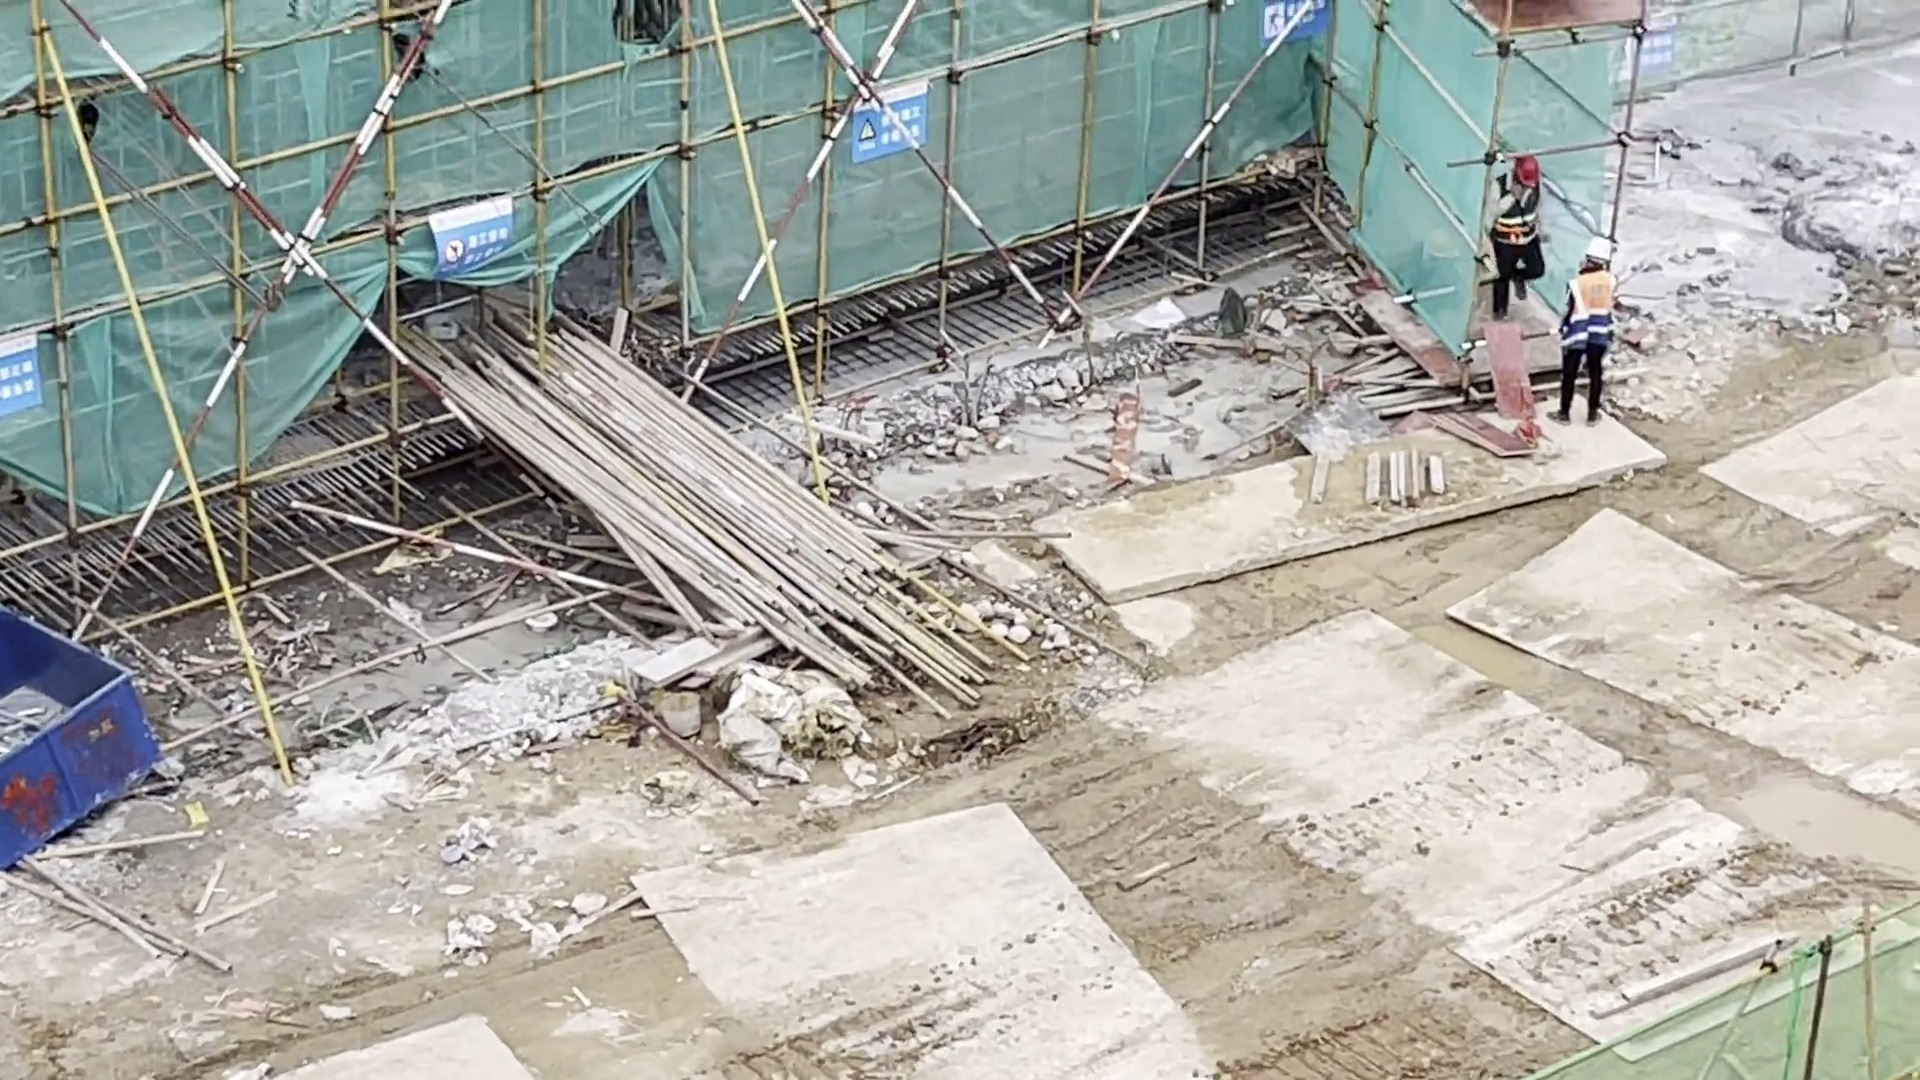helmet: (1578, 231, 1618, 267), (1514, 155, 1550, 189)
person: (1555, 228, 1613, 438), (1492, 139, 1548, 319)
vest: (1565, 278, 1620, 353)
